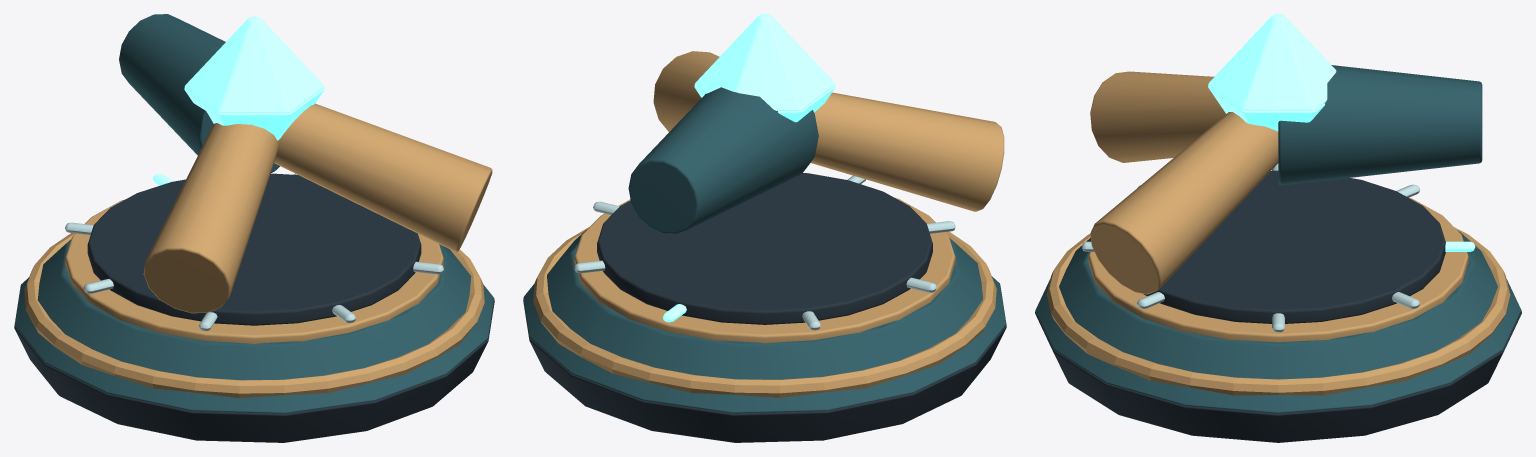
Rendered from logicGate.glb.
3 views of the same model, side by side, from view 1: azimuth 30°, elevation 25°; view 2: azimuth 150°, elevation 25°; view 3: azimuth 270°, elevation 25° (orthographic).
Parts seen in each view (by area): view 1: logicGate; view 2: logicGate; view 3: logicGate.
Part boxes in pixels (x1=…): logicGate: x1=14, y1=14, x2=494, y2=442; logicGate: x1=523, y1=14, x2=1006, y2=442; logicGate: x1=1035, y1=14, x2=1521, y2=442.
Bounding box in the file's own units: 1.08 × 0.81 × 1.08.
